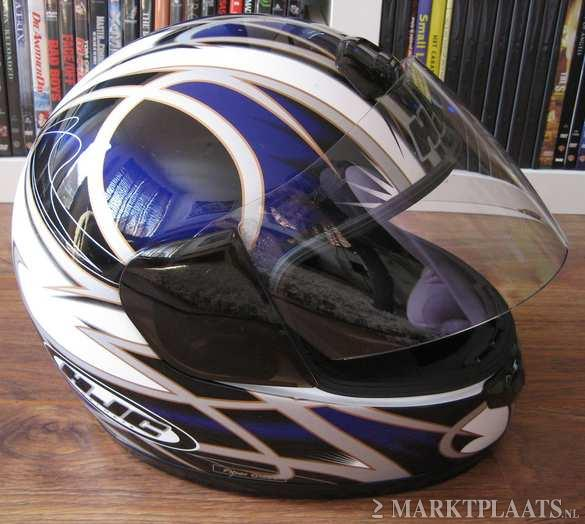helmet: (17, 46, 548, 482), (503, 151, 504, 153)
